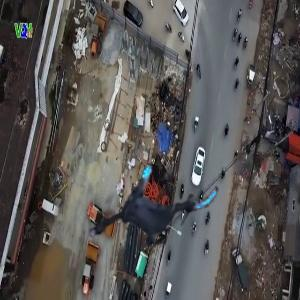drone: (97, 145, 219, 267)
